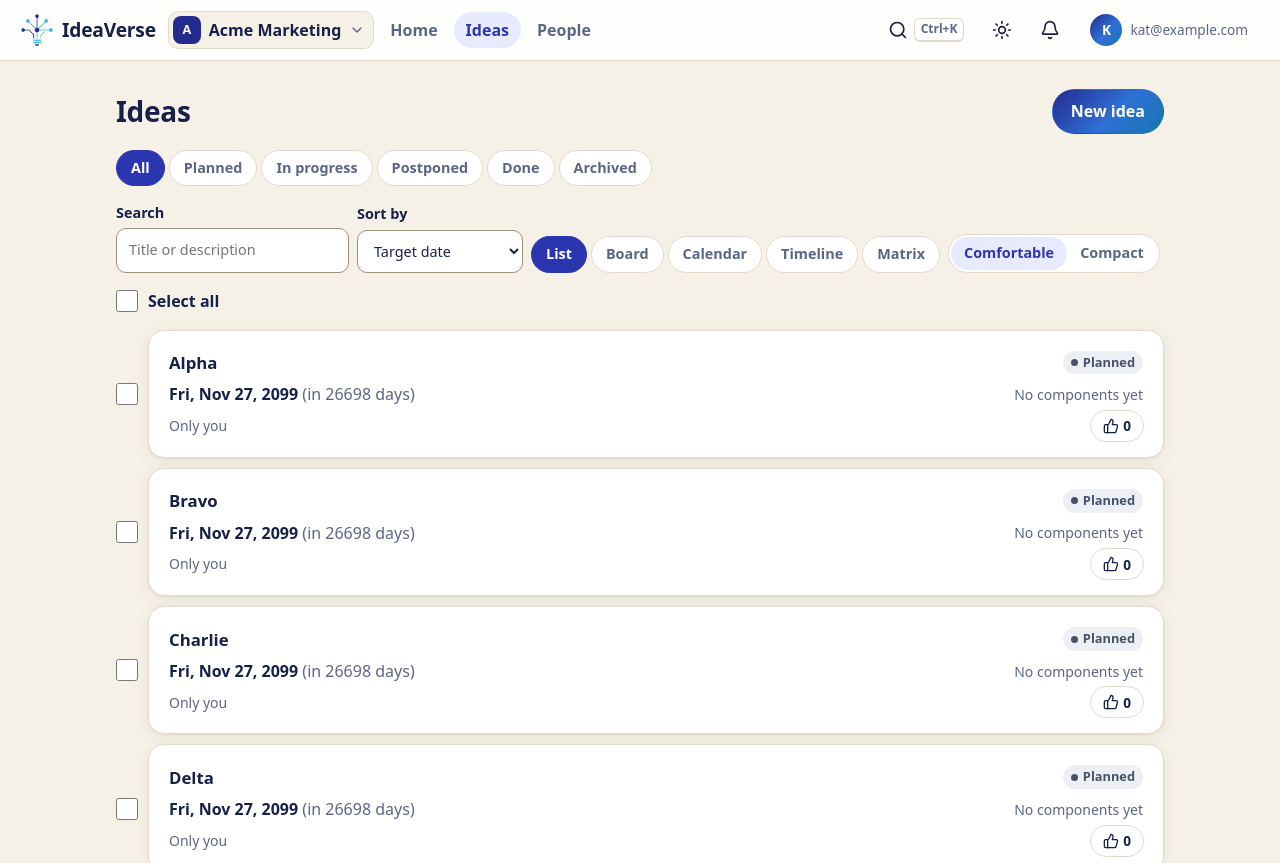
it: Matrix view › folds a crowded cell behind a button that shows the rest
The image size is (1280, 863).
Click the button "Matrix". click: point(901, 255)
box: [862,236,940,273]
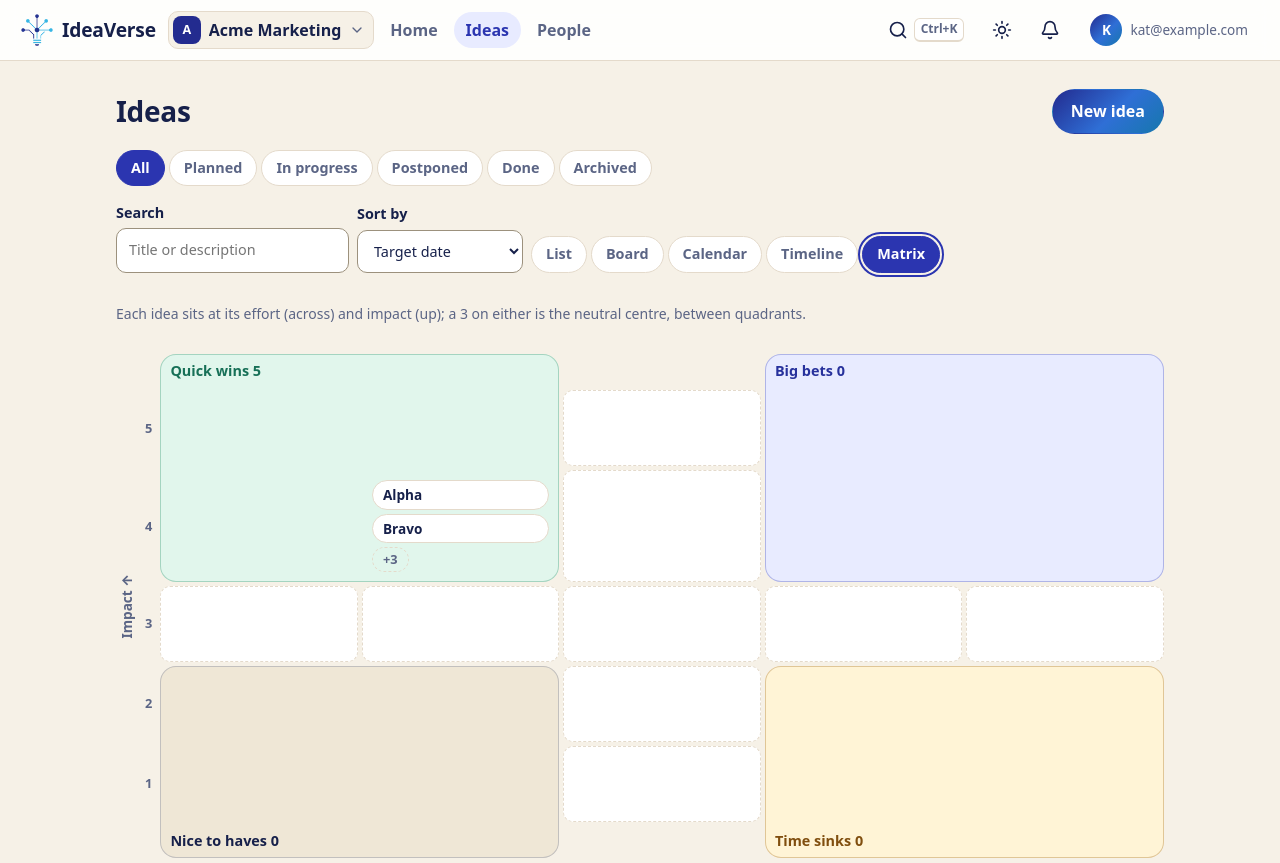
Now the links read "Alpha", "Bravo", in this order, box [372,480,549,510]; [372,514,549,543]
Now the button named "Show 3 more ideas at impact 4, effort 2" reads "+3"
Click the button named "Show 3 more ideas at impact 4, effort 2". click: point(390, 560)
box: [372,547,408,572]
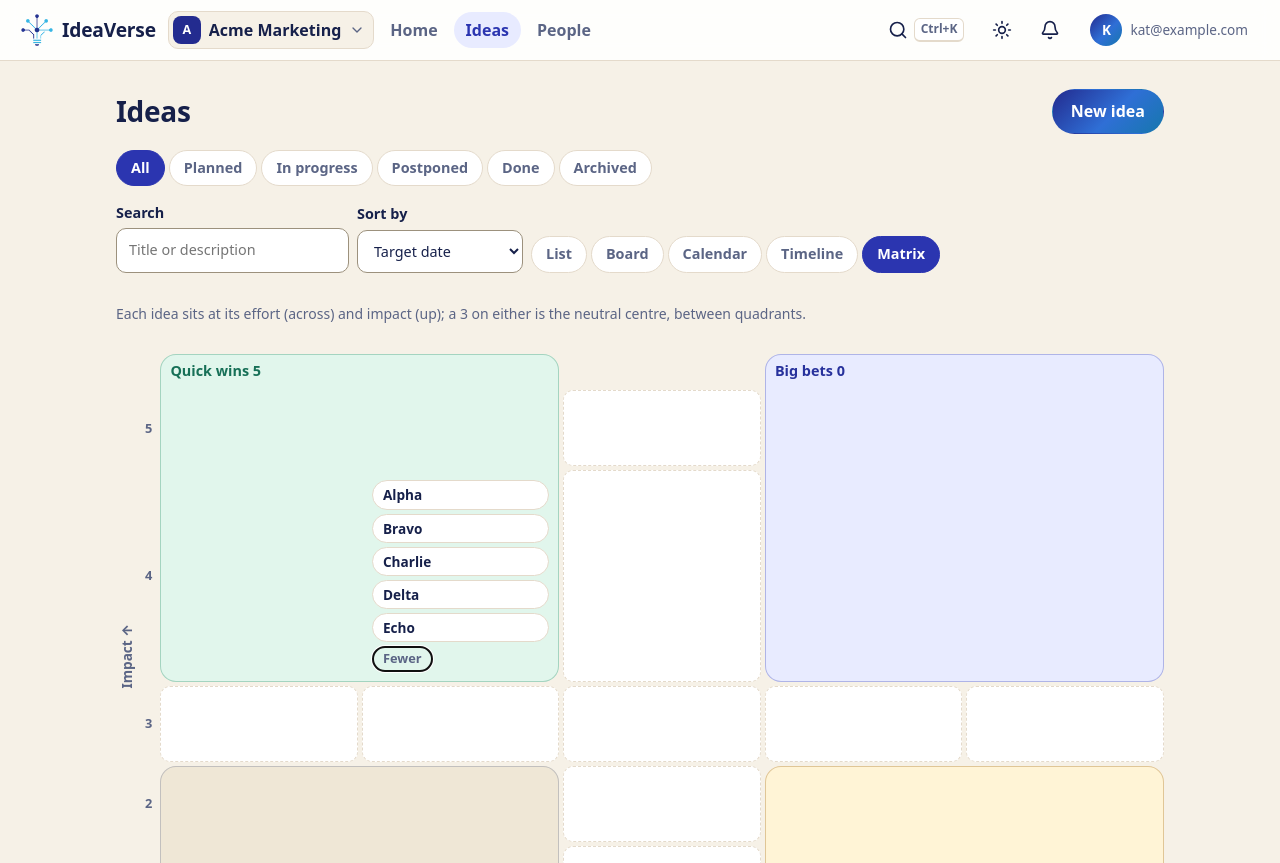
Now the links read "Alpha", "Bravo", "Charlie", "Delta", "Echo", in this order, box [372,480,549,510]; [372,514,549,543]; [372,547,549,576]; [372,580,549,609]; [372,613,549,642]
Now the button with aria-label "Show fewer ideas at impact 4, effort 2" is expanded, box [372,646,433,672]
